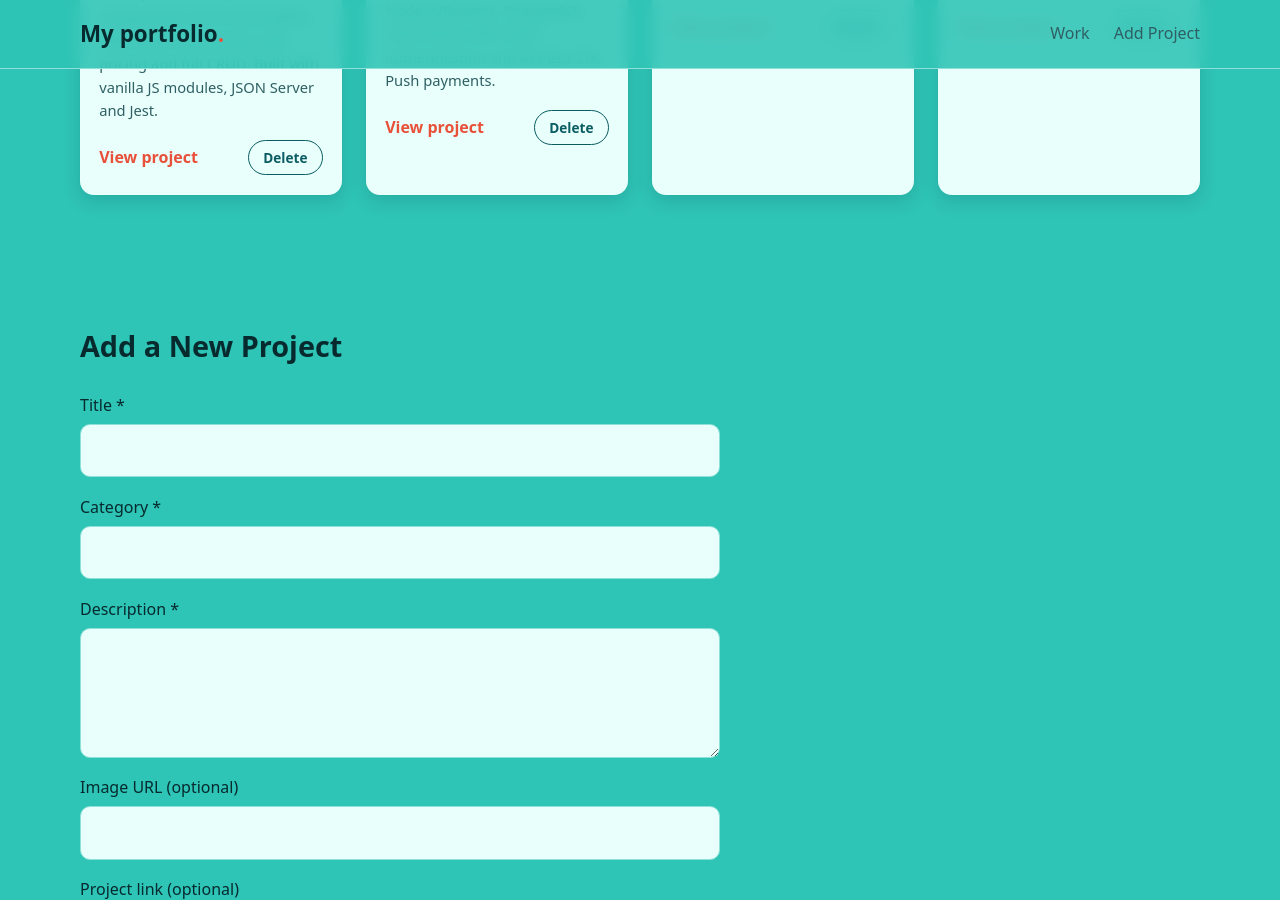
it: Portfolio Platform › adds a new project through the form
(page scrolled)
Type "Zuri Campaign" into the field labelled "Title *" at (400, 450), box [80,424,720,477]
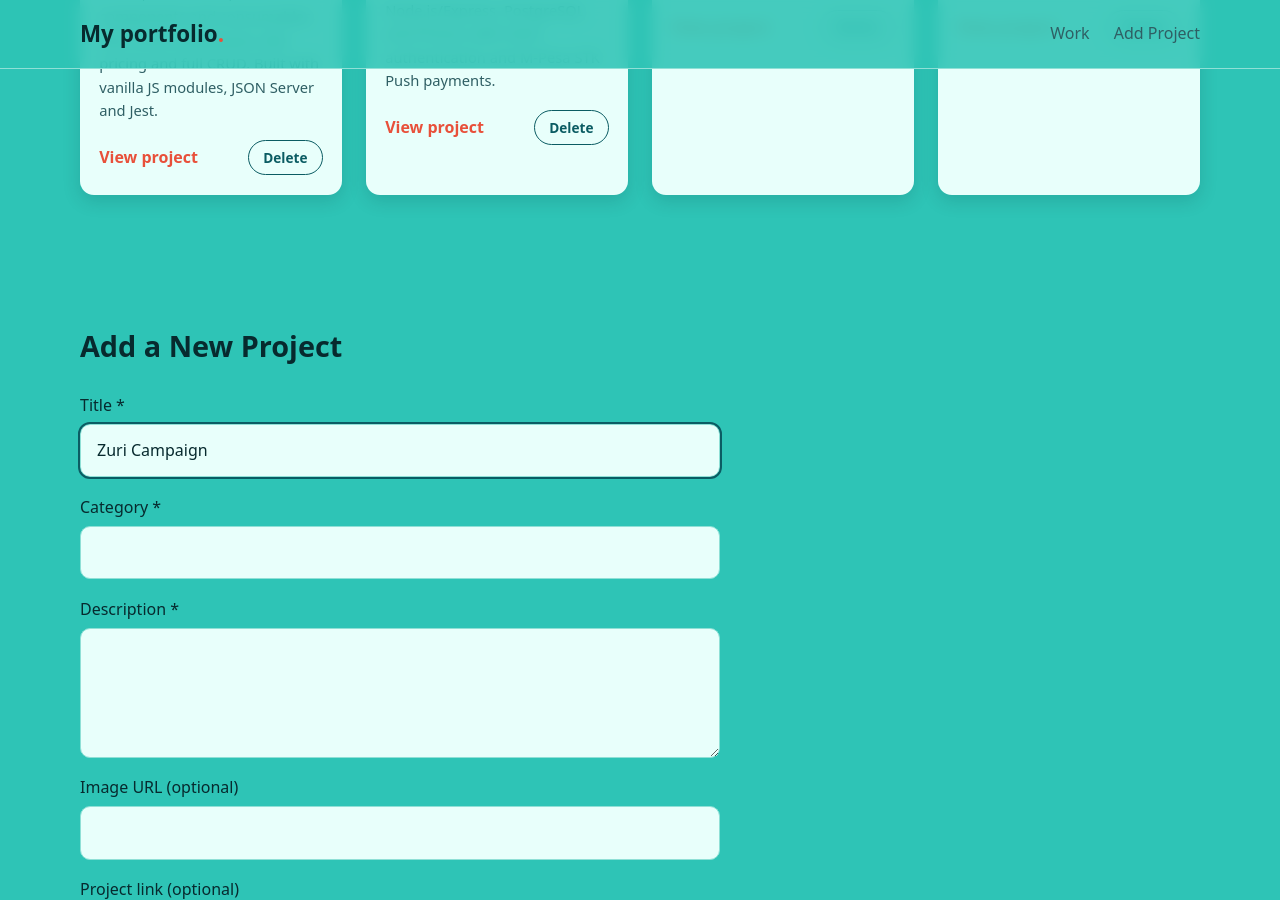
Type "Marketing" into the field labelled "Category *" at (400, 552), box [80,526,720,579]
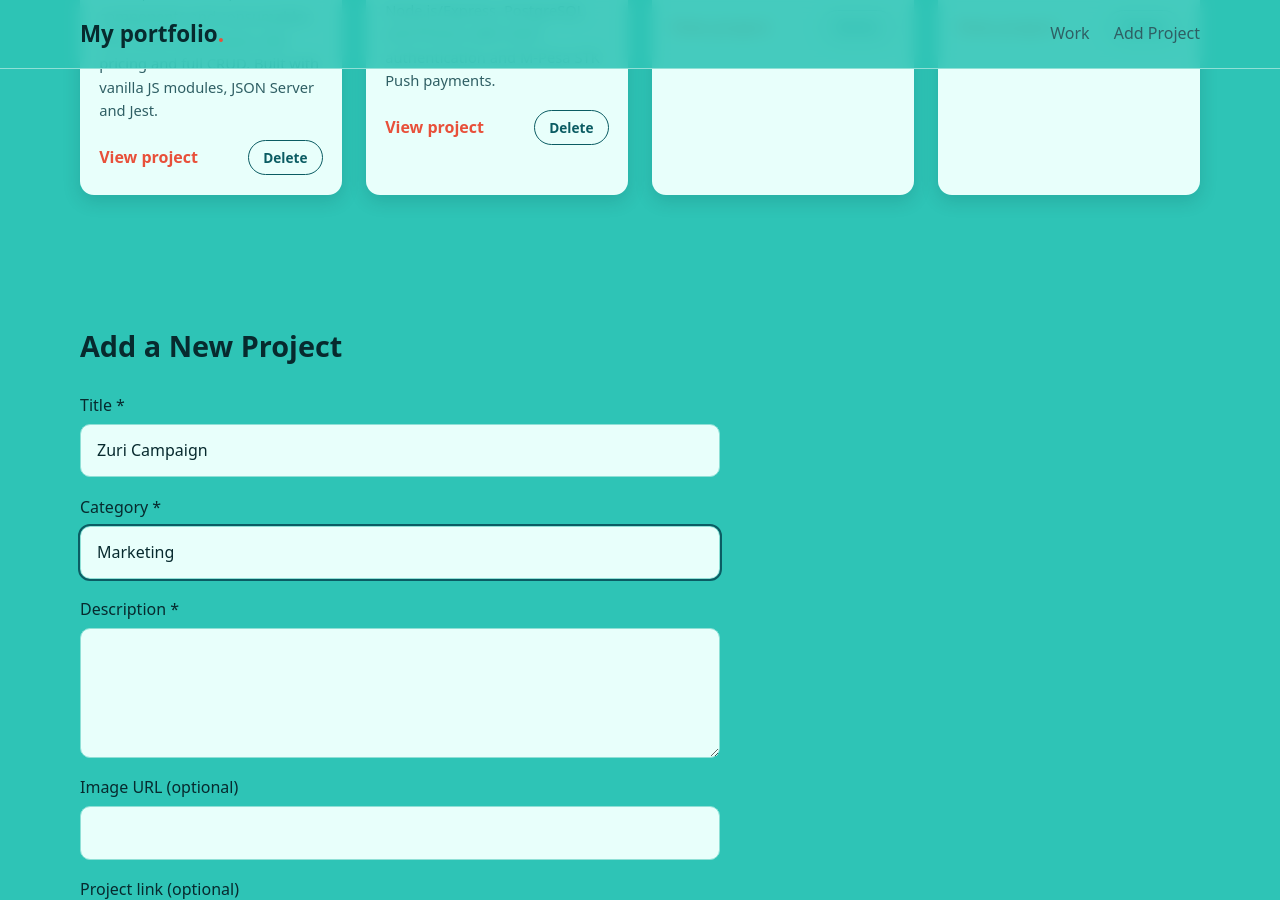
Type "A social media campaign." into the text box labelled "Description *" at (400, 693), box [80,628,720,758]
(page scrolled)
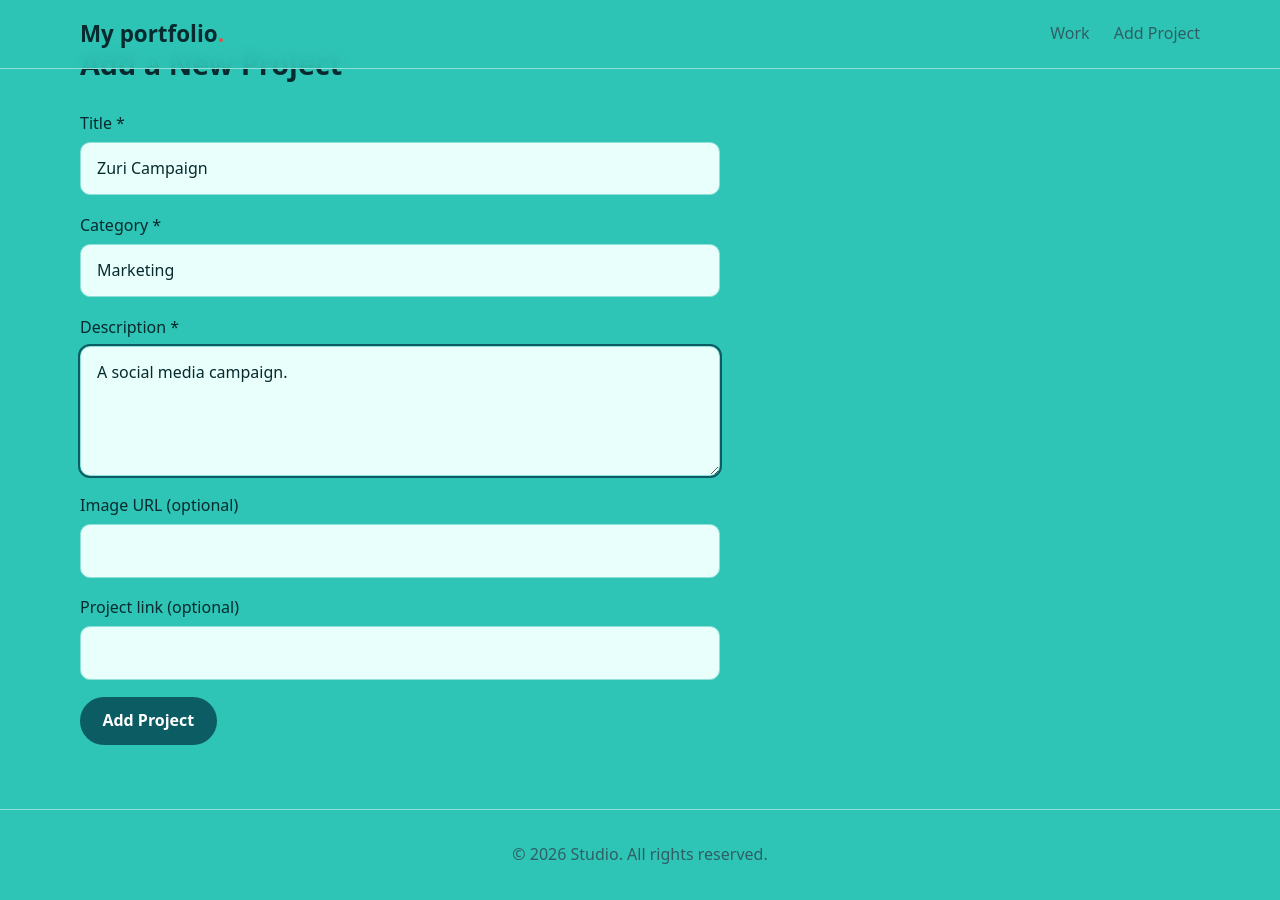
Click the button "Add Project" at (148, 721), box [80,697,217,745]
(page scrolled)
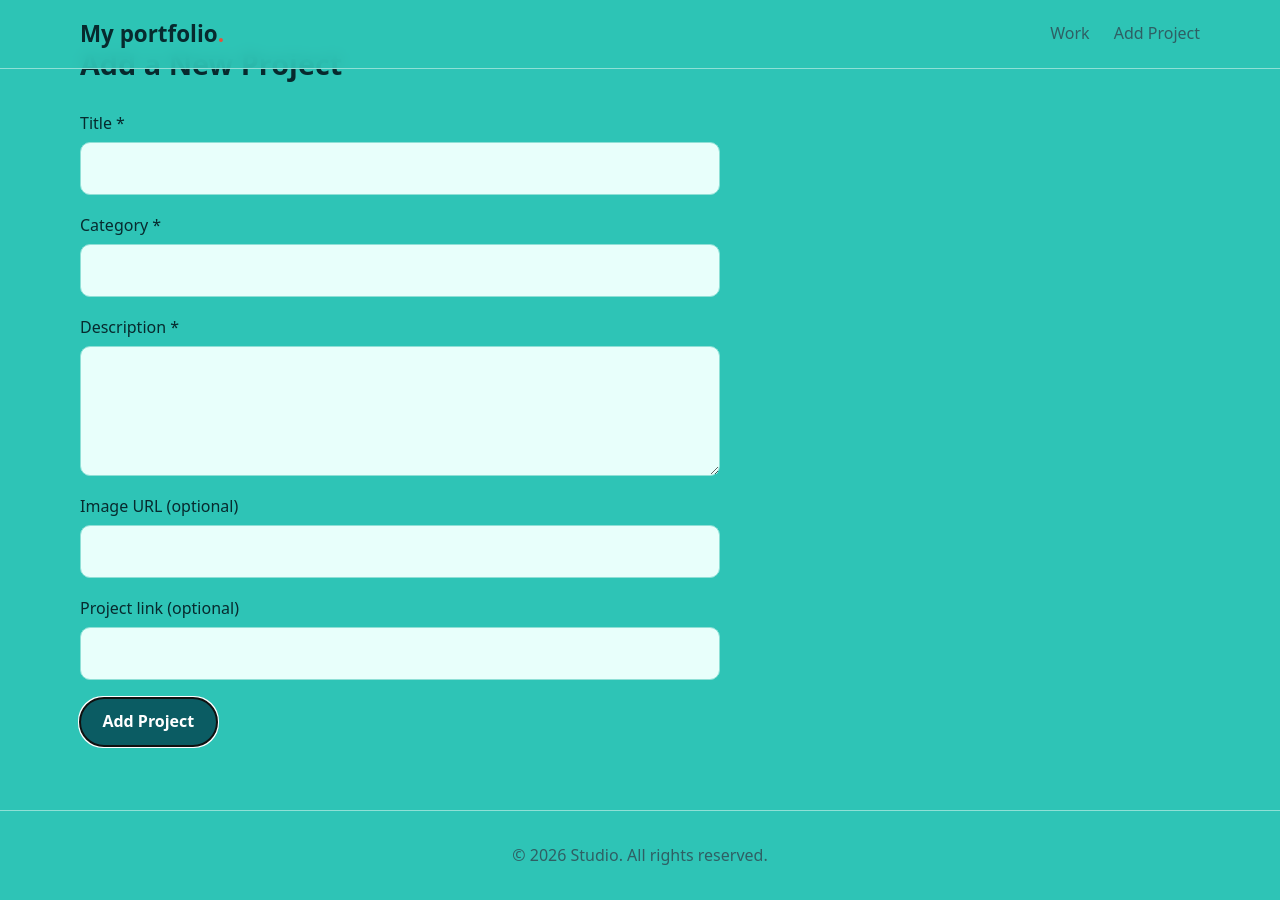
expect the field labelled "Title *" is empty: met, box [80,142,720,196]
